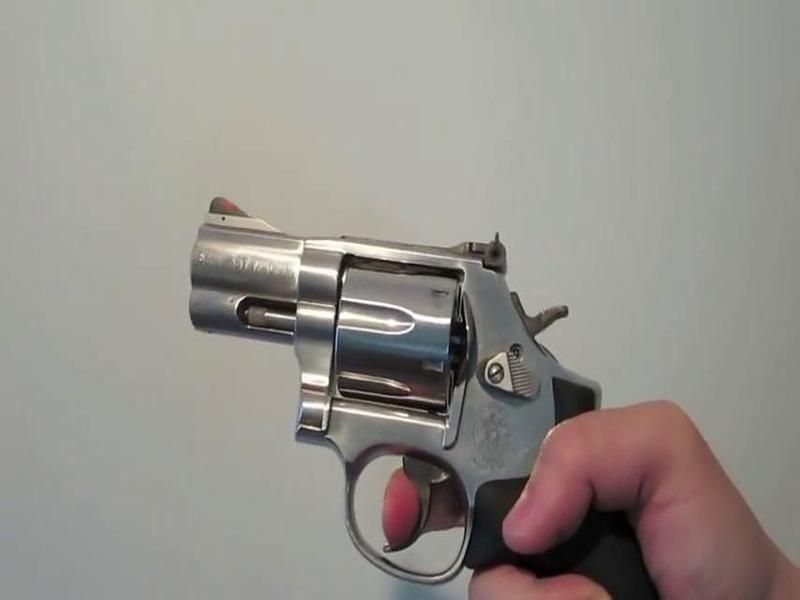Revolver: (162, 151, 624, 586)
